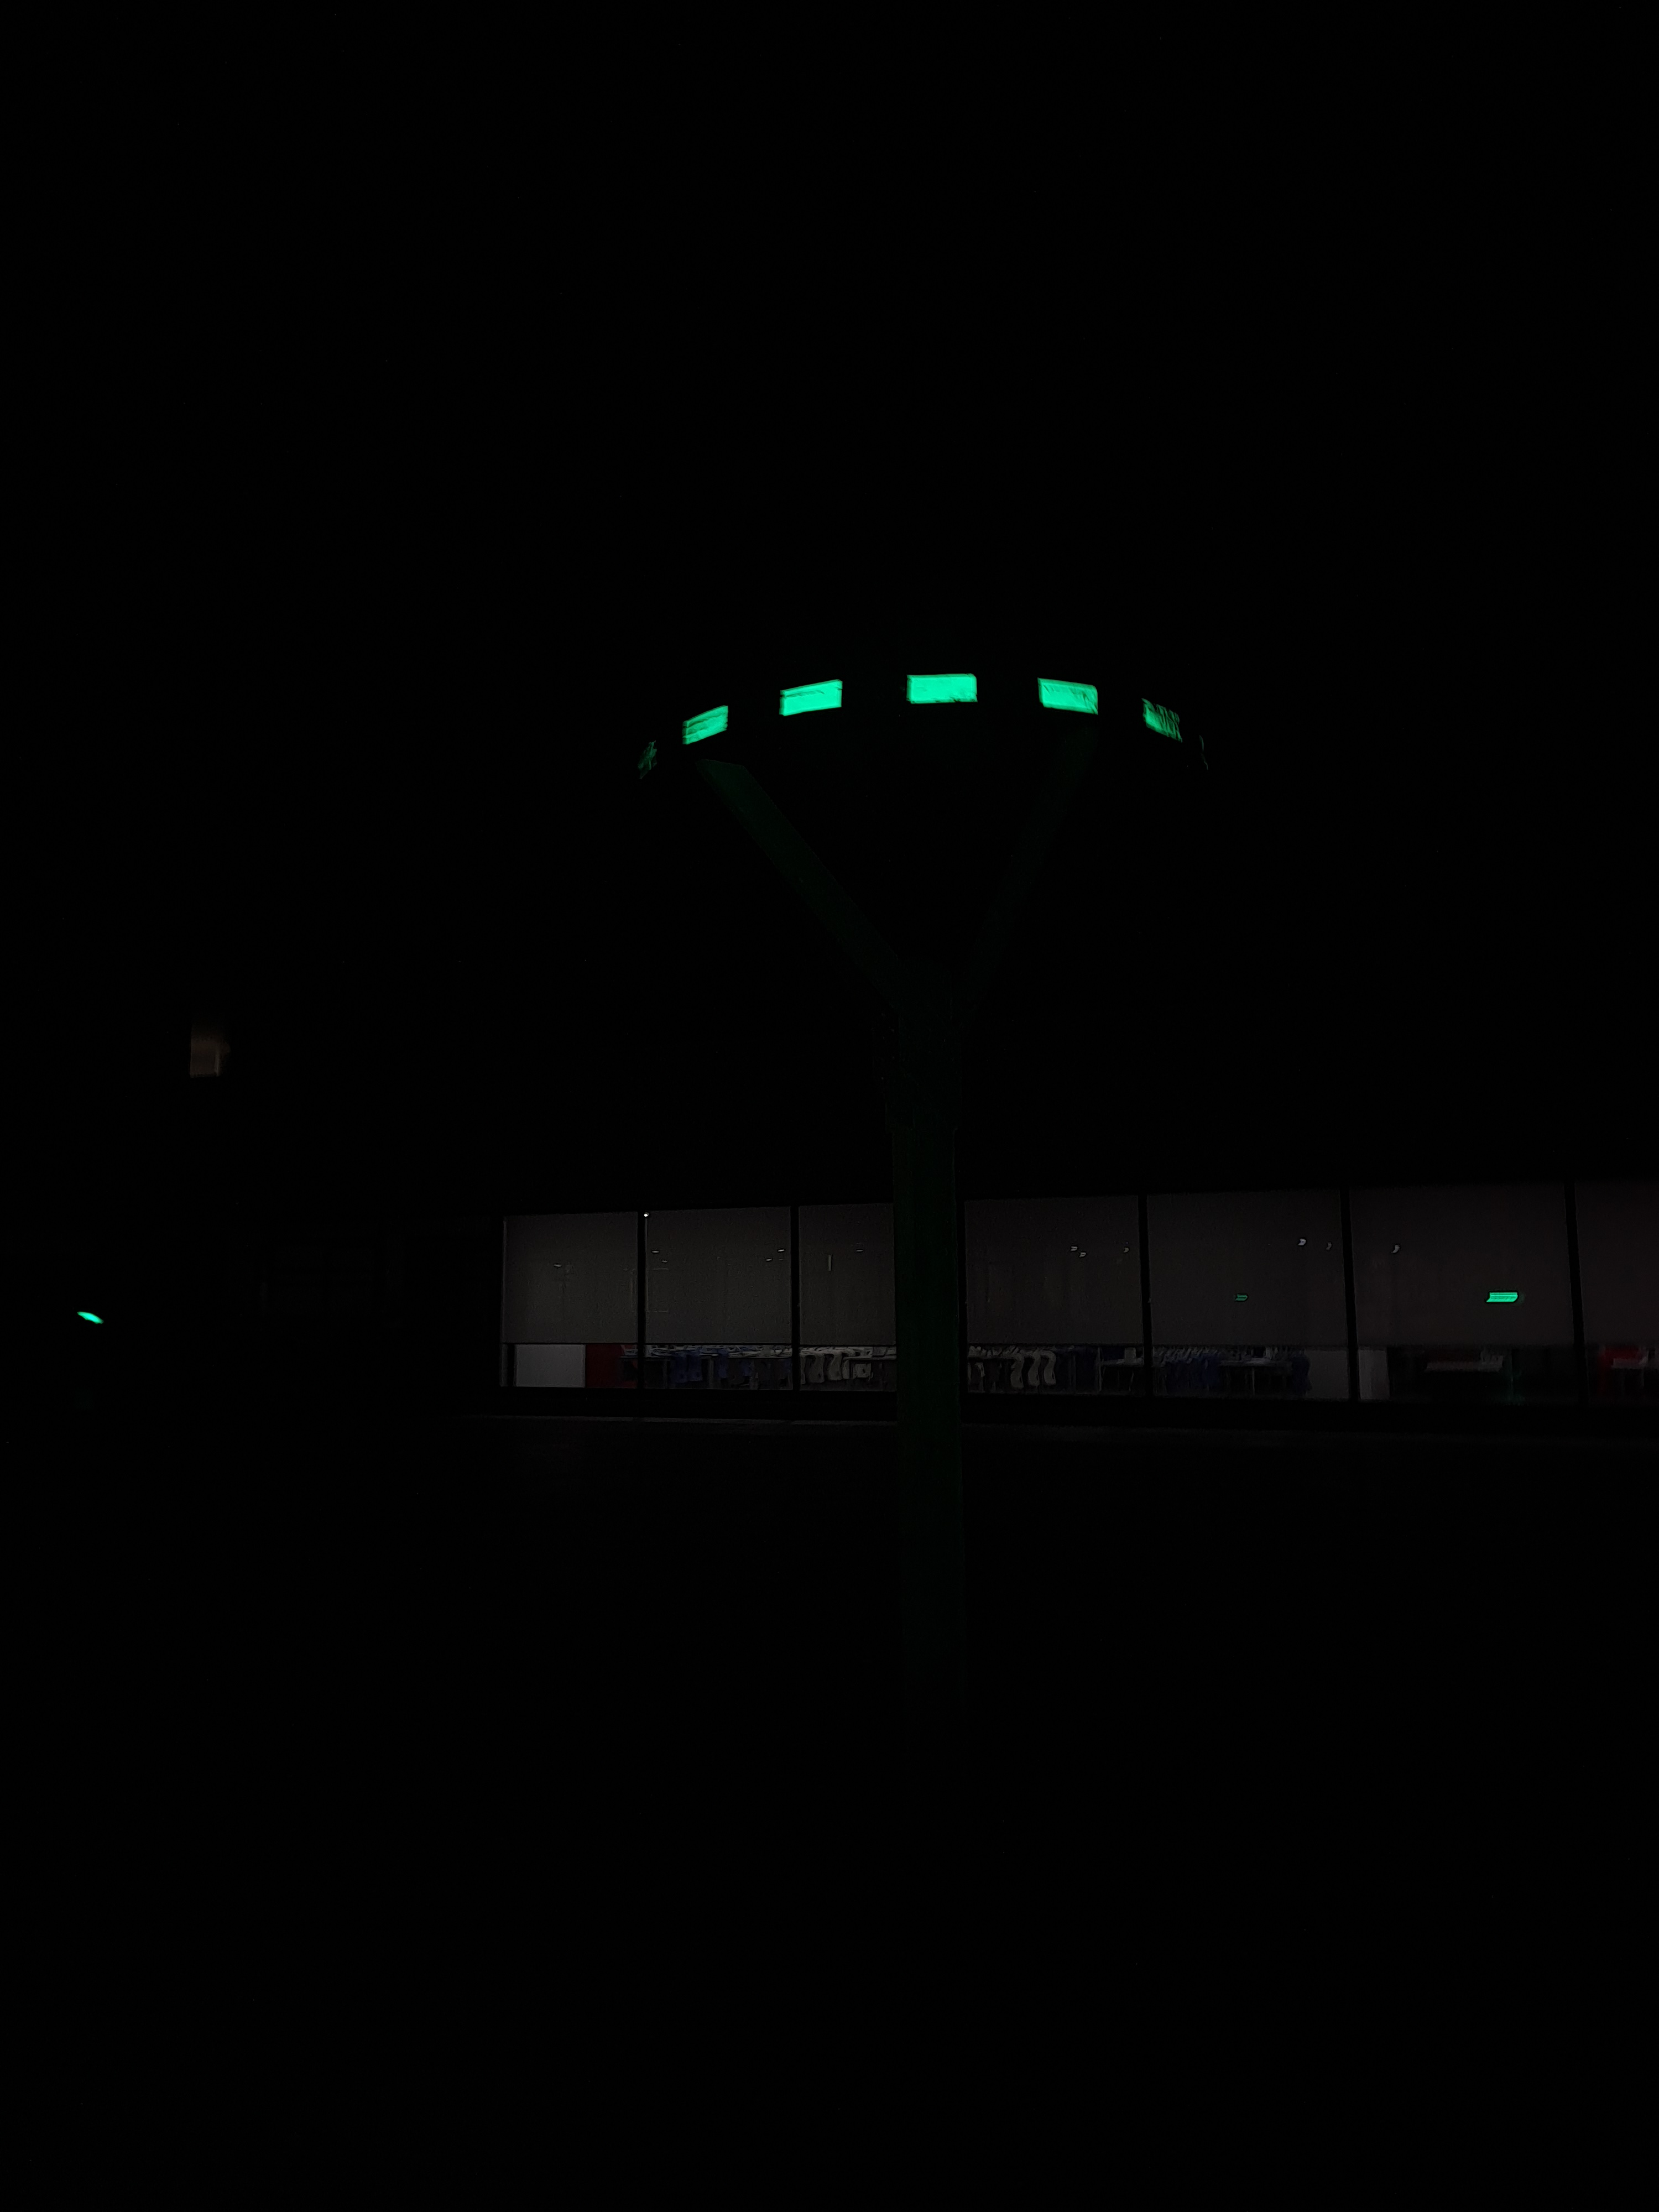hoop: (673, 676, 1201, 754)
